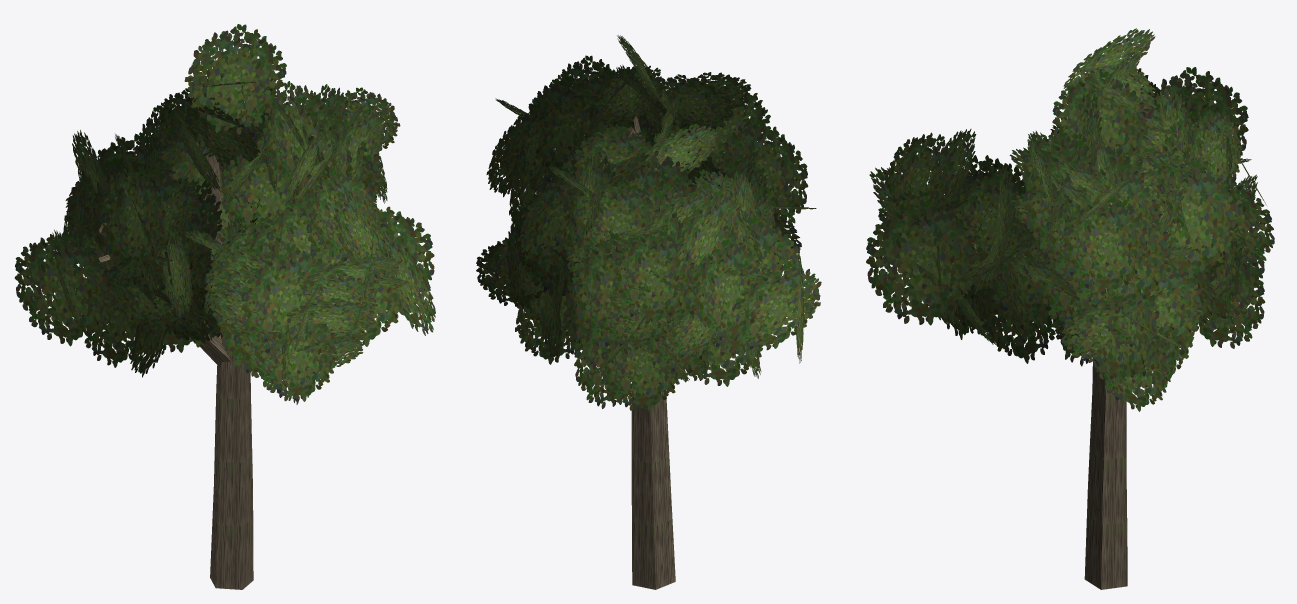
Rendered from Tree_Oak_3_LOD1.gltf.
3 renders of one model, left to right at view 1: azimuth 30°, elevation 25°; view 2: azimuth 150°, elevation 25°; view 3: azimuth 270°, elevation 25°, orthographic. The views are drawn at different scales.
Parts seen in each view (by area): view 1: Tree_Oak_3_LOD1; view 2: Tree_Oak_3_LOD1; view 3: Tree_Oak_3_LOD1.
Boxes of the visible parts, bbox=[...] form: Tree_Oak_3_LOD1: bbox=[14, 24, 435, 589]; Tree_Oak_3_LOD1: bbox=[476, 35, 821, 589]; Tree_Oak_3_LOD1: bbox=[866, 28, 1274, 589].
Bounding box in the file's own units: 16.91 × 25.1 × 17.09.
2 materials, 2 textured.
